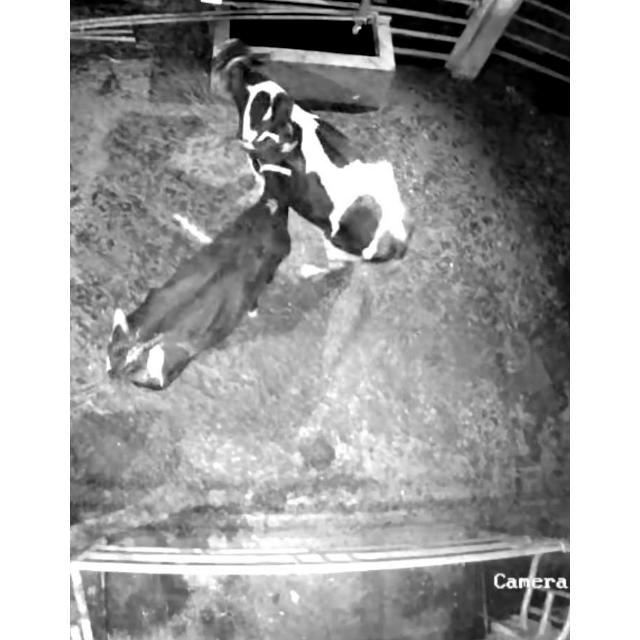propping: (223, 85, 349, 237)
